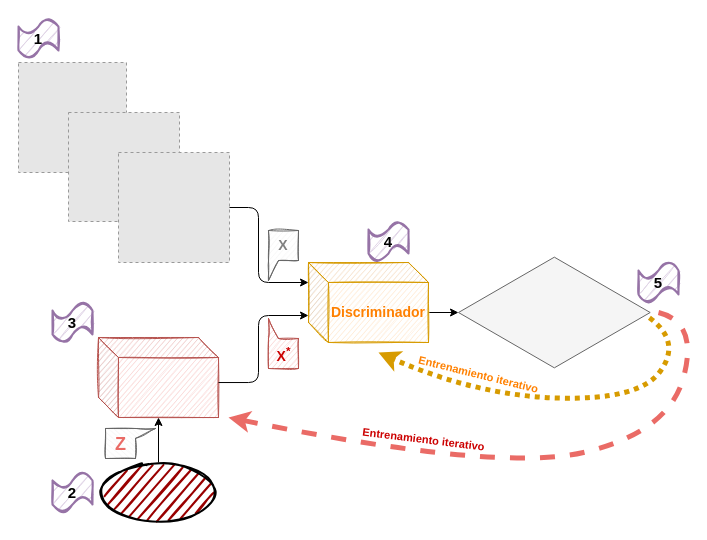
Image size: 707x540. Some labels were removed from this diagram. Grey dashed boxes stand in for pictures. Each missing label, with the centre of its shape:
Clasificación de error: (x=554, y=312)
Generador: (x=158, y=377)
